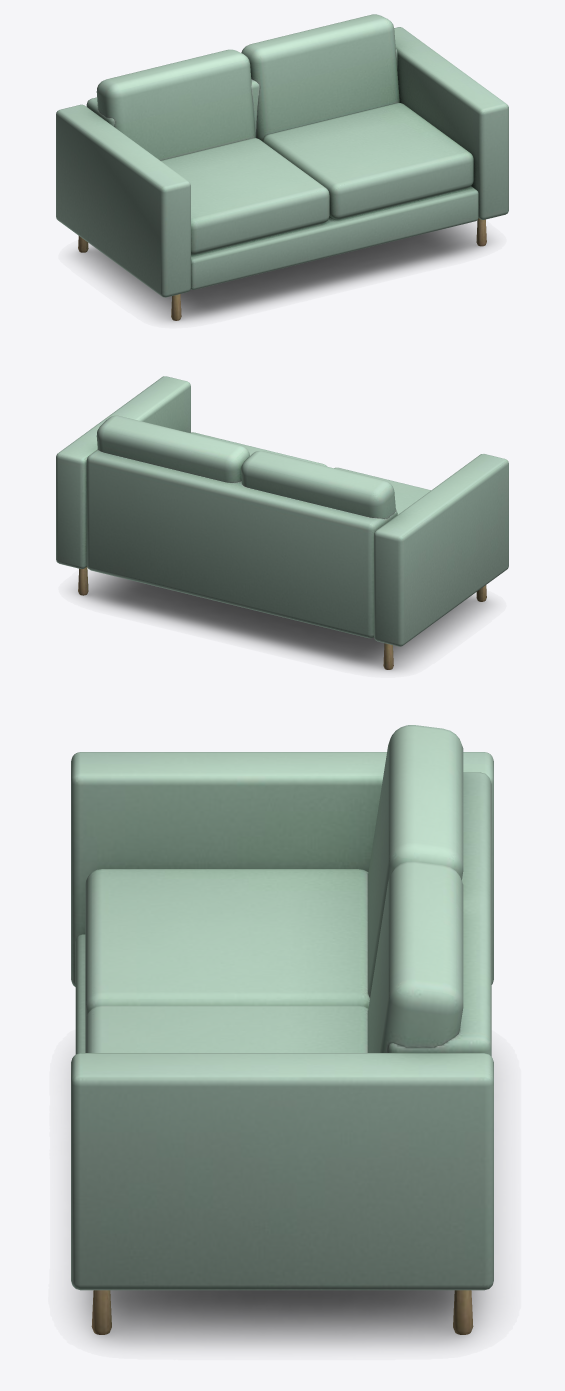
File: sofa.glb
3 views of the same model, one above another, from view 1: azimuth 30°, elevation 25°; view 2: azimuth 150°, elevation 25°; view 3: azimuth 270°, elevation 25° (orthographic). The views are drawn at different scales.
Parts seen in each view (by area): view 1: ikea-sofas__LANDSKRONA 2-seat sofa__mesh, ikea-sofas__LANDSKRONA 2-seat sofa__shadow; view 2: ikea-sofas__LANDSKRONA 2-seat sofa__mesh, ikea-sofas__LANDSKRONA 2-seat sofa__shadow; view 3: ikea-sofas__LANDSKRONA 2-seat sofa__mesh, ikea-sofas__LANDSKRONA 2-seat sofa__shadow.
Part boxes in pixels (box(x1,y1,x2,y2)): ikea-sofas__LANDSKRONA 2-seat sofa__mesh: box(56, 14, 508, 320); ikea-sofas__LANDSKRONA 2-seat sofa__shadow: box(74, 223, 490, 322); ikea-sofas__LANDSKRONA 2-seat sofa__mesh: box(56, 376, 508, 669); ikea-sofas__LANDSKRONA 2-seat sofa__shadow: box(74, 572, 490, 671); ikea-sofas__LANDSKRONA 2-seat sofa__mesh: box(71, 725, 493, 1334); ikea-sofas__LANDSKRONA 2-seat sofa__shadow: box(75, 1287, 491, 1345).
Size of the model in its own units: 1.88 by 0.7801 by 1.13.
Materials: 2 (2 with a texture image).
